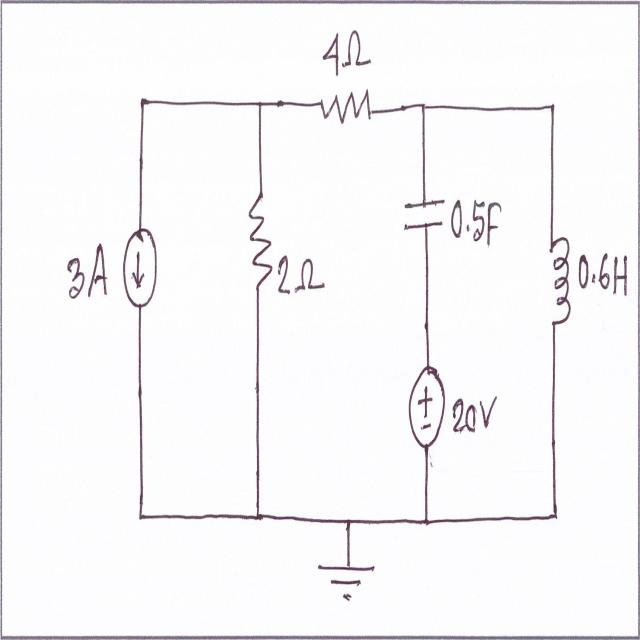capacitor: (400, 190, 447, 234)
current_source: (122, 226, 158, 310)
ground: (314, 558, 380, 608)
inductor: (546, 234, 574, 332)
resistor: (244, 190, 277, 295), (319, 81, 371, 130)
voltage_source: (408, 360, 446, 454)
